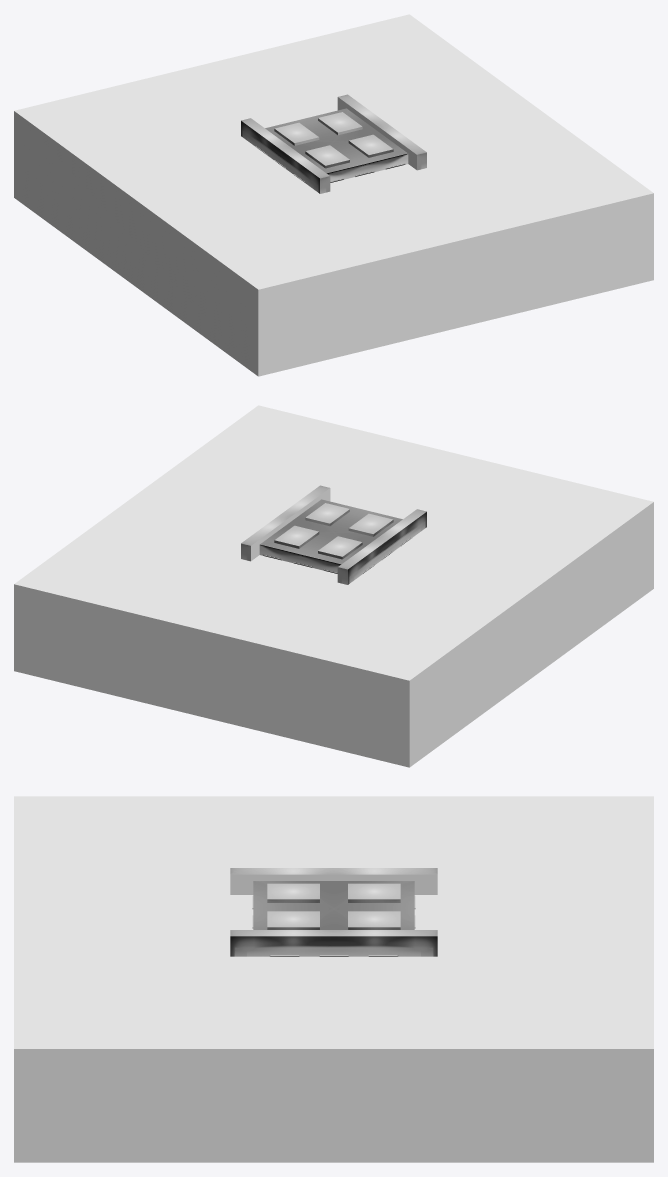
The picture shows the model from 3 angles, top to bottom: view 1: azimuth 30°, elevation 25°; view 2: azimuth 150°, elevation 25°; view 3: azimuth 270°, elevation 25°; orthographic projection. The views are drawn at different scales.
Visible parts, largest first — view 1: Cube001, Cube; view 2: Cube001, Cube; view 3: Cube001, Cube.
Boxes of the visible parts, left/top/right/bottom form: Cube001: left=14, top=14, right=653, bottom=376; Cube: left=241, top=94, right=426, bottom=193; Cube001: left=14, top=405, right=653, bottom=767; Cube: left=241, top=485, right=426, bottom=584; Cube001: left=14, top=796, right=653, bottom=1162; Cube: left=230, top=868, right=437, bottom=956.
Bounding box in the file's own units: 29.59 × 7.32 × 31.67.
Materials: 15 (14 with a texture image).
